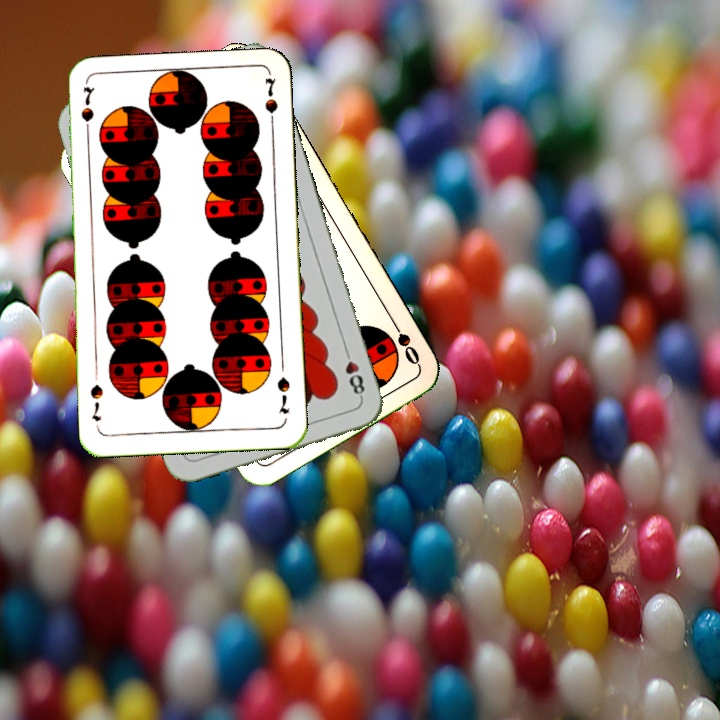H8: (340, 344, 368, 401)
S7: (77, 83, 97, 141), (273, 373, 293, 417)
SO: (386, 314, 422, 368)
